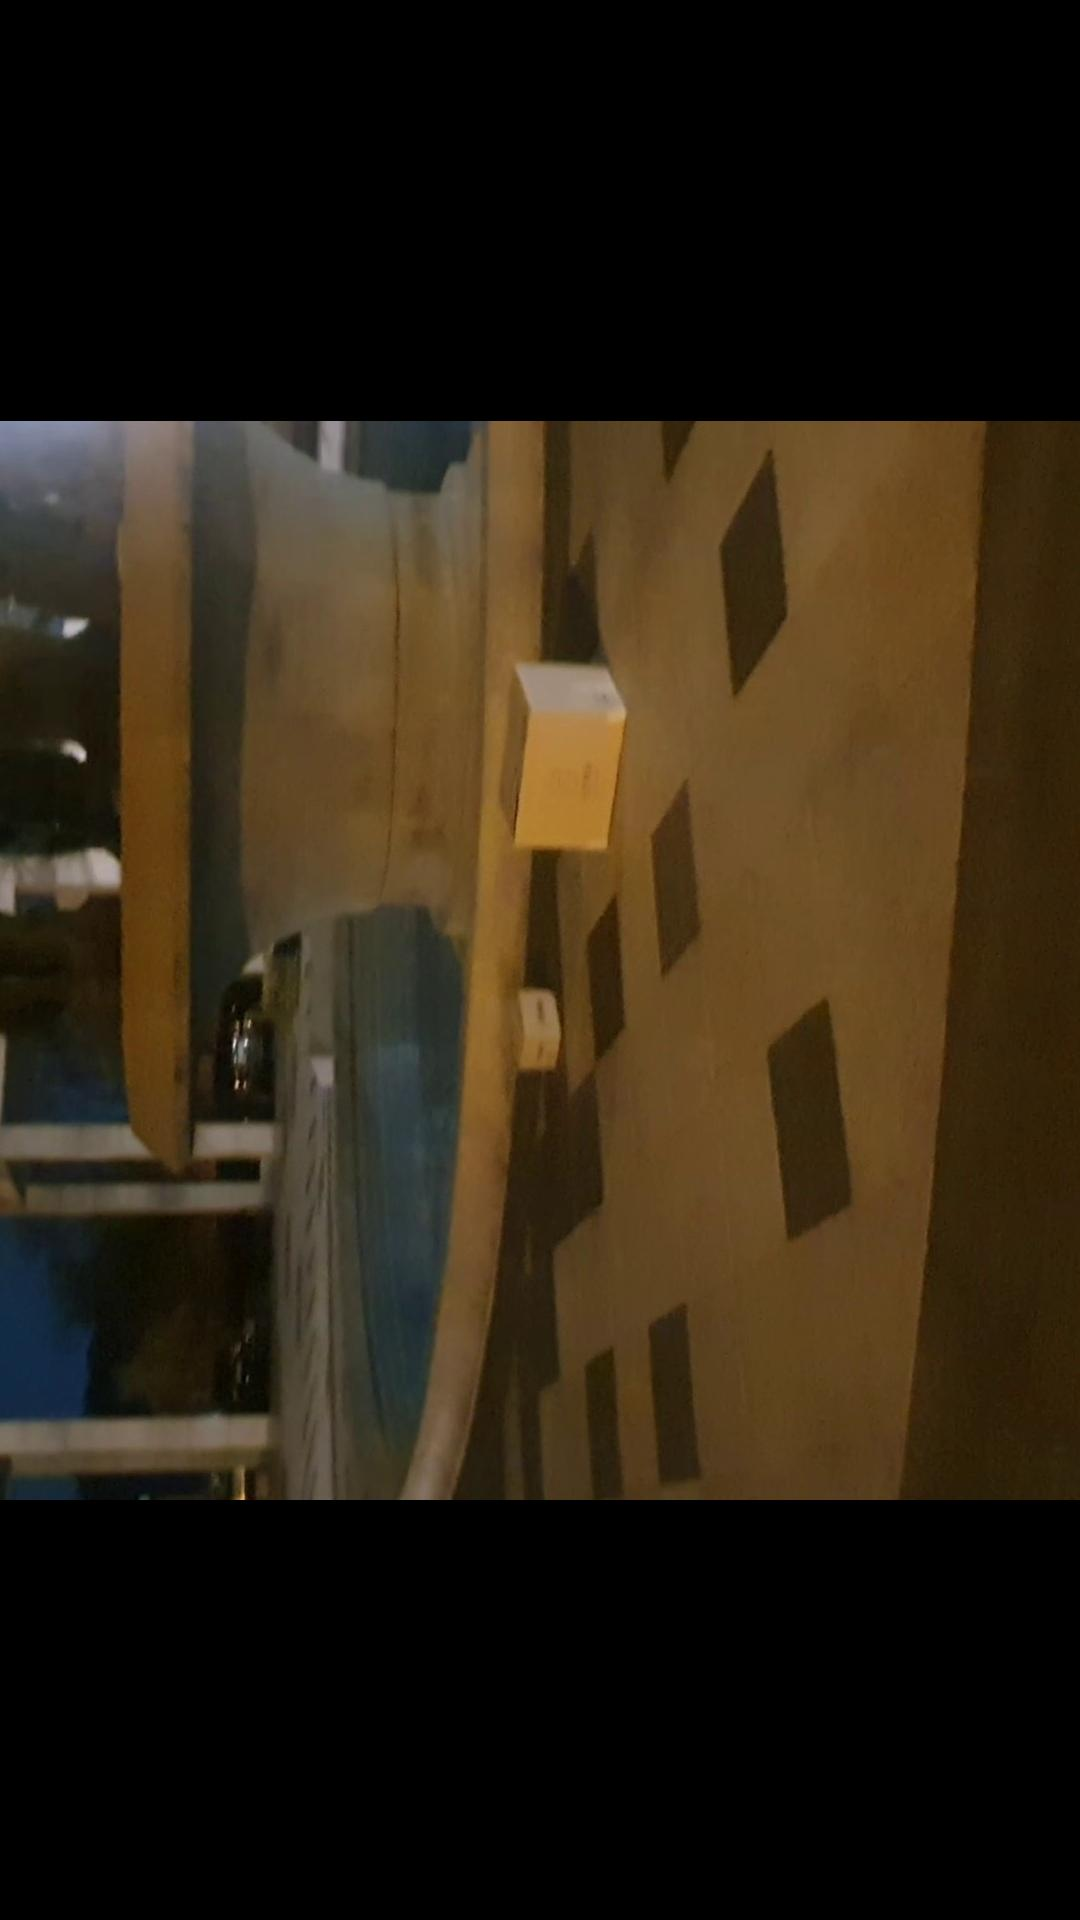Box: (473, 644, 630, 858), (495, 988, 556, 1083)
